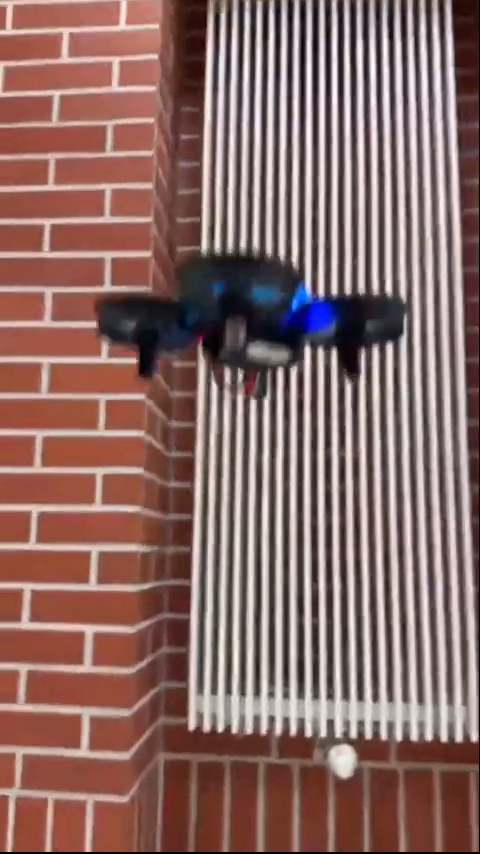drone: (100, 253, 408, 395)
